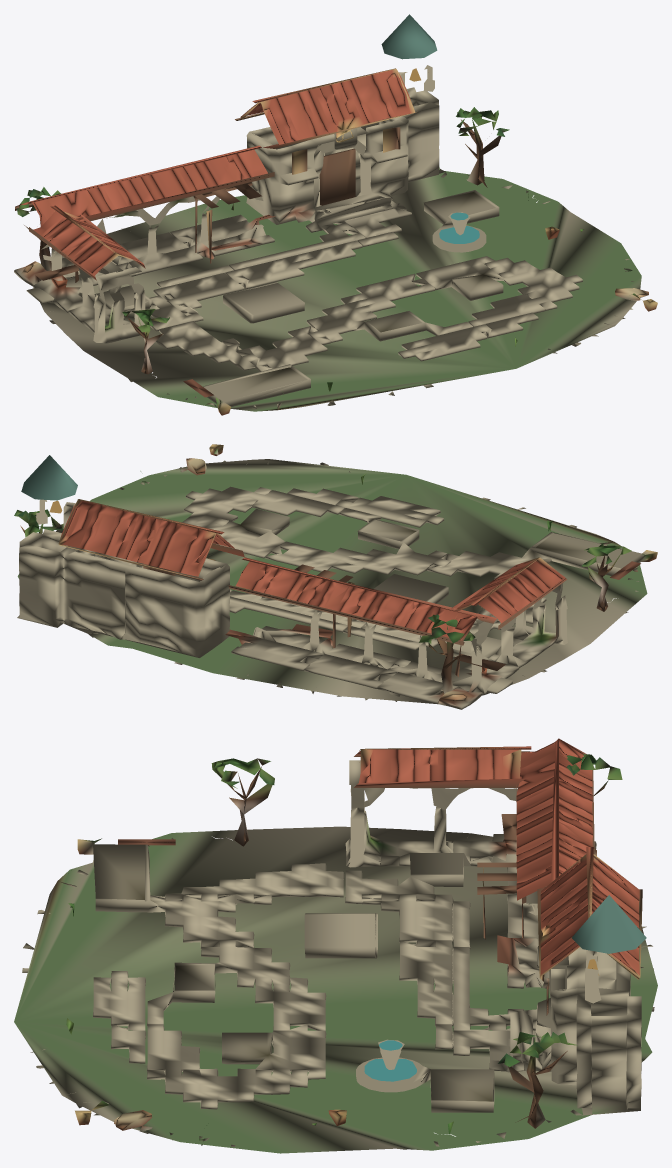
The model's file is viridis.far.glb.
3 renders of one model, top to bottom at view 1: azimuth 30°, elevation 25°; view 2: azimuth 150°, elevation 25°; view 3: azimuth 270°, elevation 25°, orthographic. The views are drawn at different scales.
Visible parts, largest first — view 1: merged-masonry-botany, merged-timber-ceramic, merged-opaque-water; view 2: merged-masonry-botany, merged-timber-ceramic; view 3: merged-masonry-botany, merged-timber-ceramic, merged-opaque-water.
Boxes of the visible parts, left/top/right/bottom form: merged-masonry-botany: left=14, top=65, right=657, bottom=415; merged-timber-ceramic: left=15, top=14, right=437, bottom=282; merged-opaque-water: left=439, top=212, right=479, bottom=243; merged-masonry-botany: left=14, top=444, right=657, bottom=709; merged-timber-ceramic: left=21, top=455, right=567, bottom=677; merged-masonry-botany: left=14, top=754, right=657, bottom=1153; merged-timber-ceramic: left=354, top=738, right=646, bottom=1015; merged-opaque-water: left=364, top=1040, right=416, bottom=1081.
Bounding box in the file's own units: 24.21 × 7.12 × 20.2.
